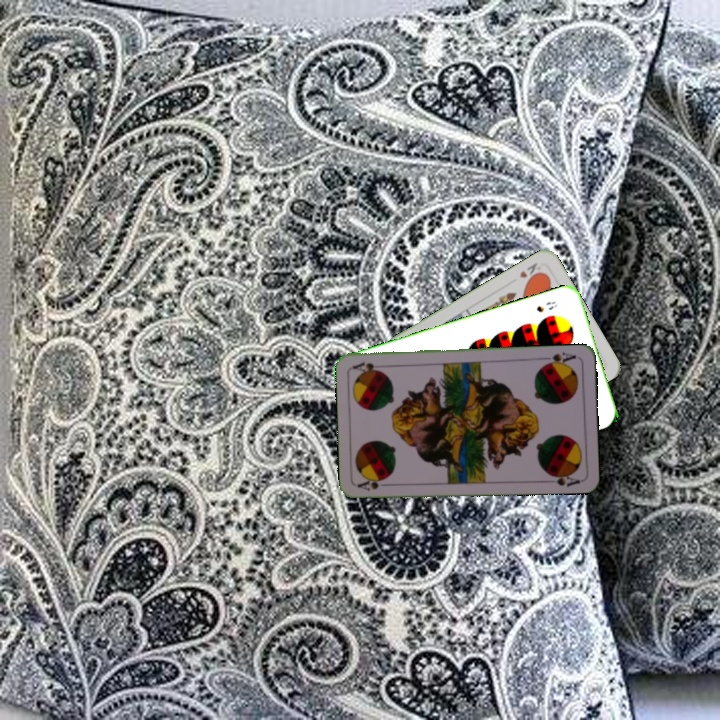HK: (515, 258, 545, 284)
S8: (532, 297, 560, 315)
SA: (539, 348, 579, 369), (354, 475, 395, 494)
